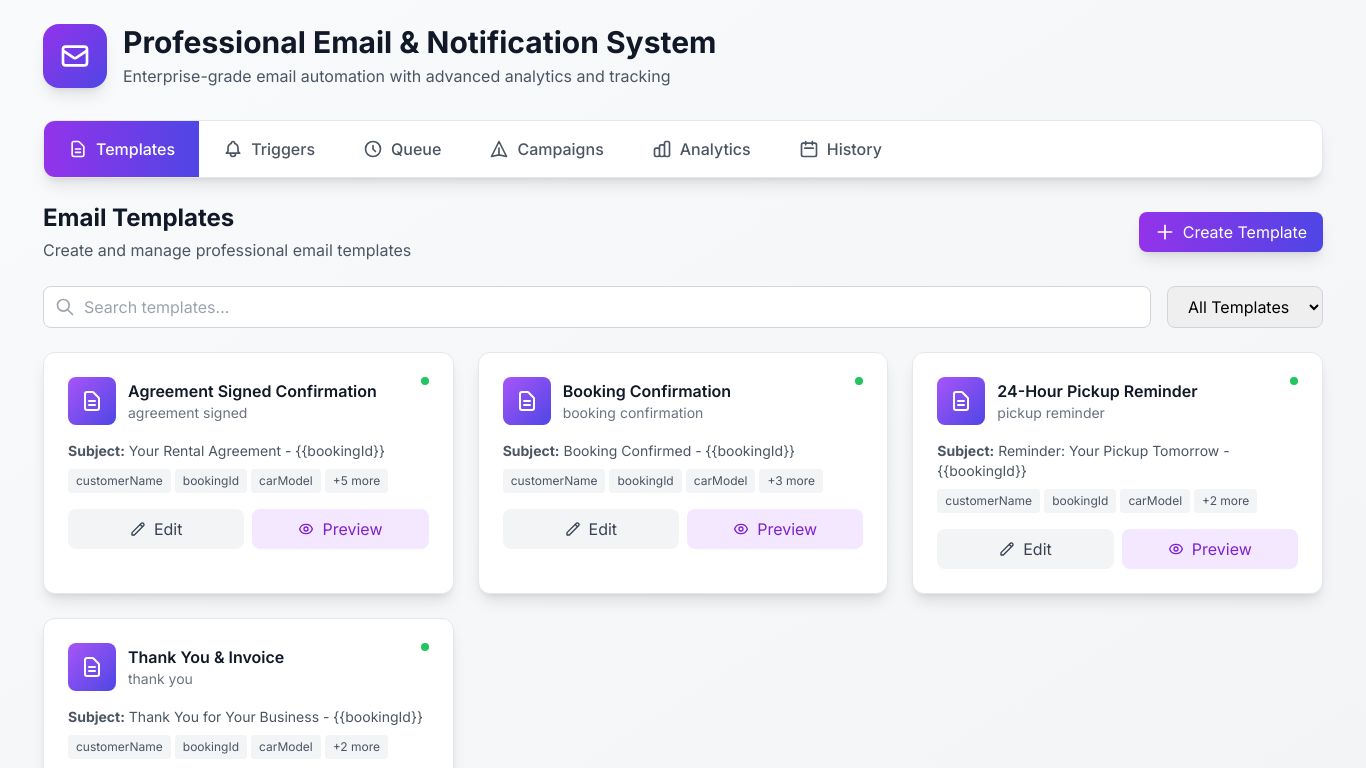
Test case: ProfessionalEmailNotificationSystem › Campaigns Tab › should display email campaigns
Click the button "Campaigns" at {"x": 547, "y": 149}, box left=465, top=121, right=628, bottom=177
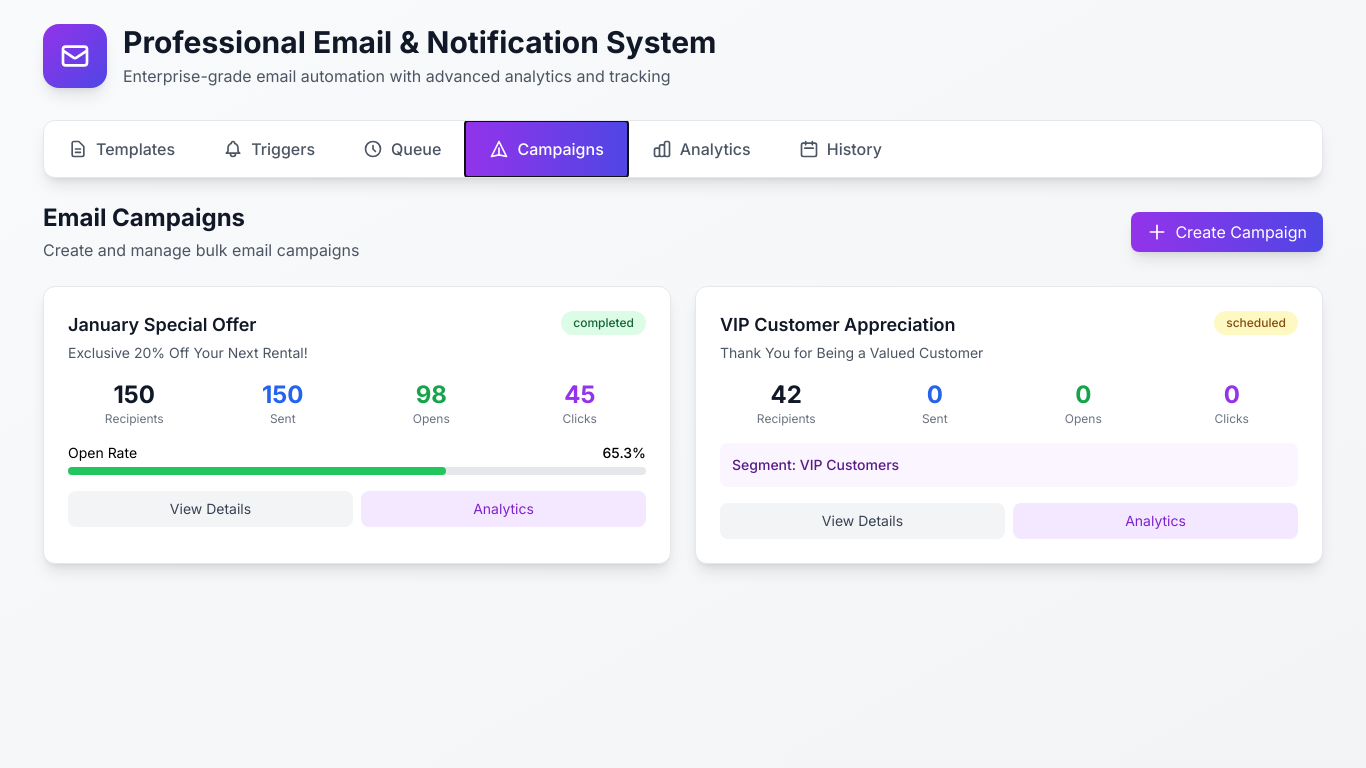
Now the heading "January Special Offer" is shown, box left=68, top=314, right=256, bottom=335
Now the heading "VIP Customer Appreciation" is shown, box left=720, top=311, right=983, bottom=339
